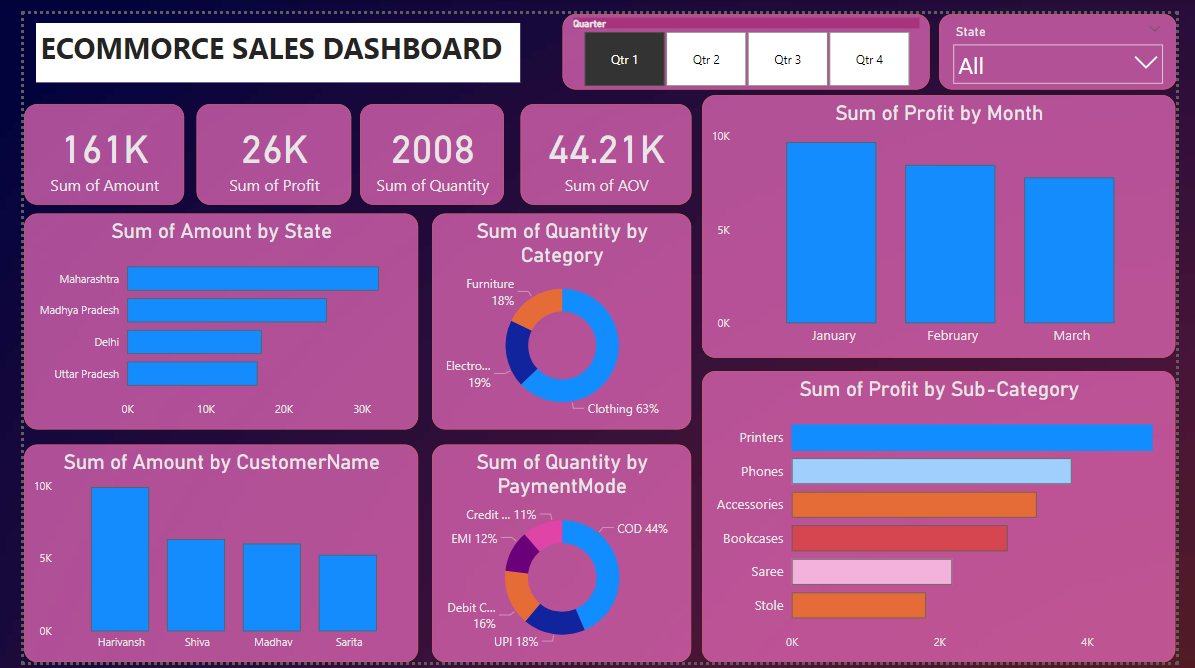

This screenshot's page, from the dashboard's own definition file:
{"tool":"powerbi","page":{"name":"Page 1","canvas":[1280,720],"ordinal":0},"visuals":[{"type":"textbox","box":[14,10,538,66],"z":0},{"type":"columnChart","fields":{"Y":["Sum(Details.Profit)"],"Category":["Orders.Order Date.Variation.Date Hierarchy.Month"]},"box":[754,90,526,292],"z":1000},{"type":"barChart","fields":{"Category":["Details.Sub-Category"],"Y":["Sum(Details.Profit)"]},"box":[754,396,526,324],"z":2000},{"type":"donutChart","fields":{"Category":["Details.Category"],"Y":["Sum(Details.Quantity)"]},"box":[454,222,288,240],"z":3000},{"type":"donutChart","fields":{"Category":["Details.PaymentMode"],"Y":["Sum(Details.Quantity)"]},"box":[454,478,288,242],"z":4000},{"type":"card","fields":{"Values":["Sum(Details.Amount)"]},"box":[0,100,178,112],"z":5000},{"type":"card","fields":{"Values":["Sum(Details.Quantity)"]},"box":[374,100,160,112],"z":6000},{"type":"card","fields":{"Values":["Sum(Details.AOV)"]},"box":[552,100,190,112],"z":7000},{"type":"barChart","fields":{"Category":["Orders.State"],"Y":["Sum(Details.Amount)"]},"box":[0,222,438,240],"z":8000},{"type":"columnChart","fields":{"Category":["Orders.CustomerName"],"Y":["Sum(Details.Amount)"]},"box":[0,478,438,242],"z":9000},{"type":"slicer","fields":{"Values":["Orders.Order Date.Variation.Date Hierarchy.Quarter"]},"box":[598,0,408,84],"z":10000},{"type":"slicer","fields":{"Values":["Orders.State"]},"box":[1016,0,264,84],"z":11000},{"type":"card","fields":{"Values":["Sum(Details.Profit)"]},"box":[192,100,172,112],"z":12000}]}

Visuals, with their boxes in screenshot pixels (x1, y1, x2, y2), scaled from the page's 1280x720 canvas onto the 1195x668 screenshot:
textbox: locate(13, 9, 515, 71)
columnChart - Sum(Details.Profit) x Orders.Order Date.Variation.Date Hierarchy.Month: locate(704, 84, 1194, 354)
barChart - Details.Sub-Category x Sum(Details.Profit): locate(704, 367, 1194, 667)
donutChart - Details.Category x Sum(Details.Quantity): locate(424, 206, 693, 429)
donutChart - Details.PaymentMode x Sum(Details.Quantity): locate(424, 443, 693, 667)
card - Sum(Details.Amount): locate(0, 93, 166, 197)
card - Sum(Details.Quantity): locate(349, 93, 499, 197)
card - Sum(Details.AOV): locate(515, 93, 693, 197)
barChart - Orders.State x Sum(Details.Amount): locate(0, 206, 409, 429)
columnChart - Orders.CustomerName x Sum(Details.Amount): locate(0, 443, 409, 667)
slicer - Orders.Order Date.Variation.Date Hierarchy.Quarter: locate(558, 0, 939, 78)
slicer - Orders.State: locate(949, 0, 1194, 78)
card - Sum(Details.Profit): locate(179, 93, 340, 197)
